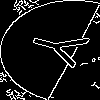Y: (25, 25, 100, 72)
